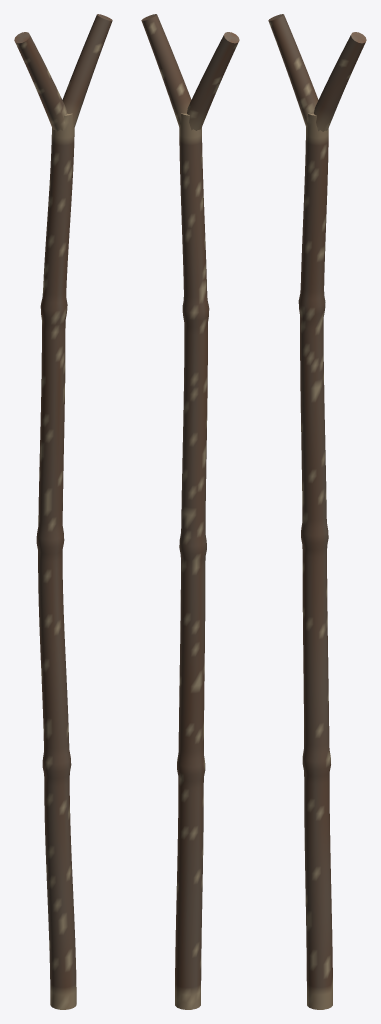
Rendered from walking-stick.glb.
3 views of the same model, side by side, from view 1: azimuth 30°, elevation 25°; view 2: azimuth 150°, elevation 25°; view 3: azimuth 330°, elevation 25° (orthographic).
Parts seen in each view (by area): view 1: walking-stick; view 2: walking-stick; view 3: walking-stick.
Boxes of the visible parts, <box> form: walking-stick: <box>14,14,112,1009</box>; walking-stick: <box>141,14,239,1009</box>; walking-stick: <box>268,14,366,1009</box>.
Bounding box in the file's own units: 0.1213 × 1.18 × 0.0392.
